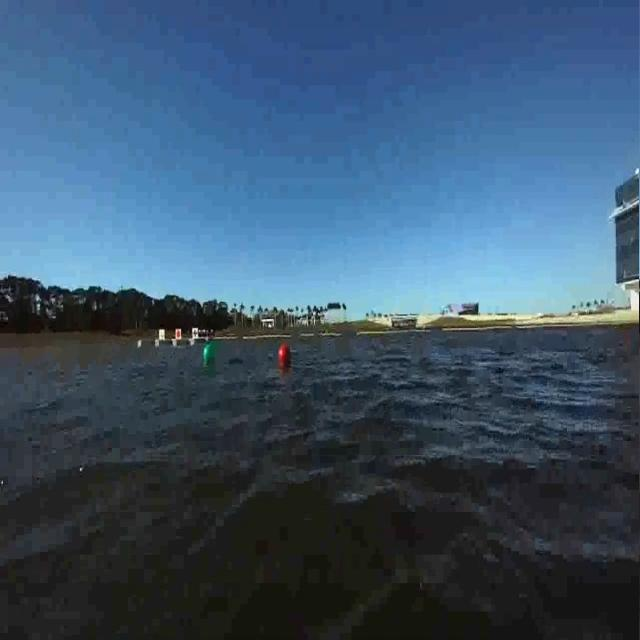green-buoy: (203, 342, 221, 363)
red-buoy: (280, 344, 291, 363)
